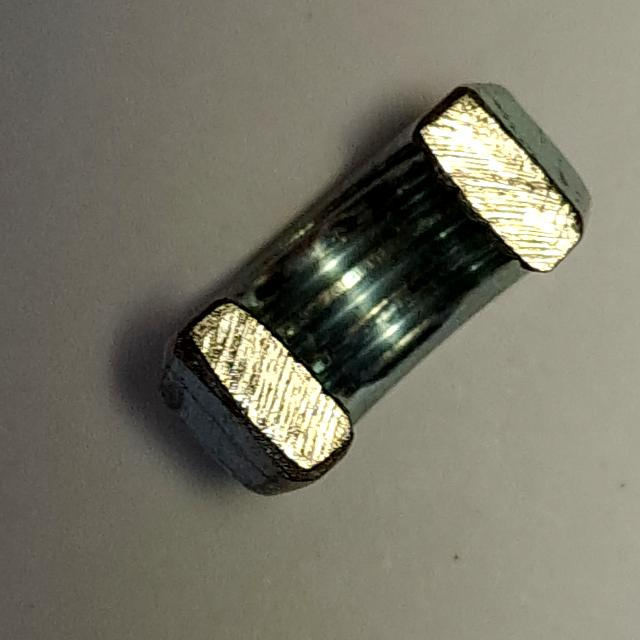Side-Fracture: (145, 68, 609, 509)
